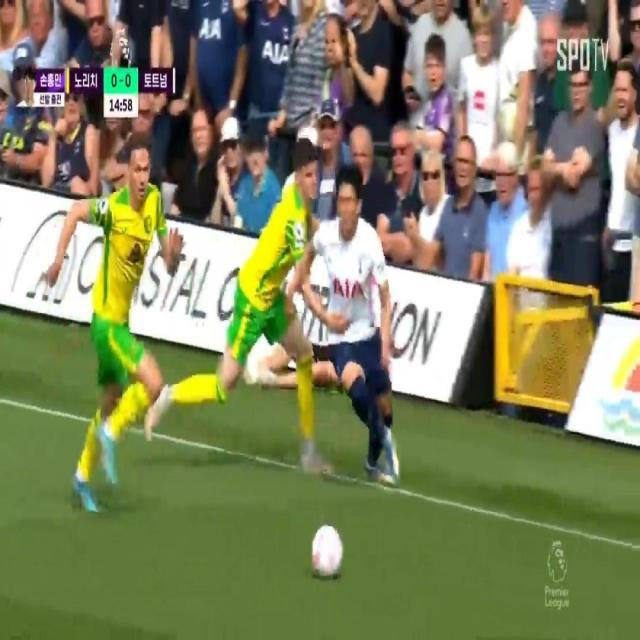ball: (301, 511, 352, 573)
player: (55, 133, 183, 526), (209, 141, 333, 436), (306, 167, 400, 464)
